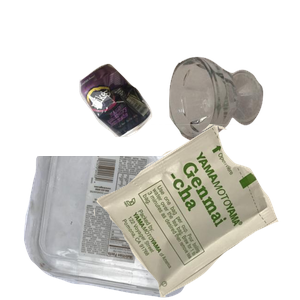glass: (166, 54, 300, 189)
metal: (77, 61, 222, 191)
plastic: (21, 156, 226, 300)
trash: (91, 124, 300, 300)
